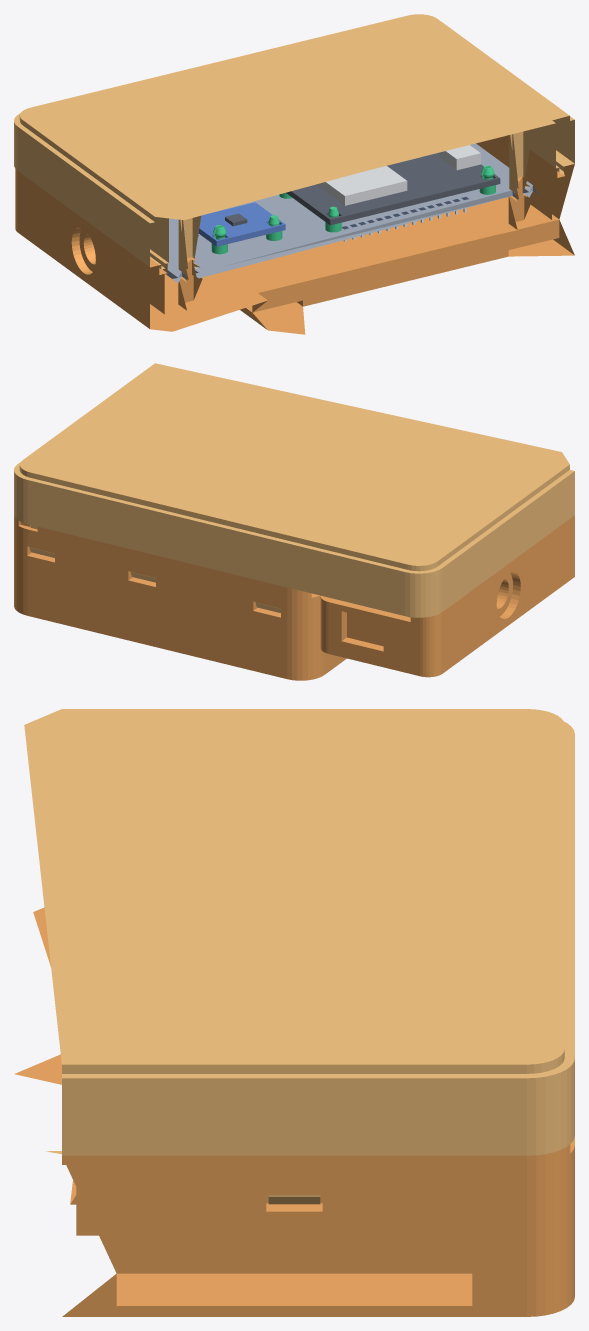
The model's file is SIMULACION_2_CORTE_INTERIOR_CON_TAPA_CERRADA.glb.
3 renders of one model, top to bottom at view 1: azimuth 30°, elevation 25°; view 2: azimuth 150°, elevation 25°; view 3: azimuth 270°, elevation 25°, orthographic. The views are drawn at different scales.
Parts seen in each view (by area): view 1: Tapa_Solar_Cerrada_Cortada, Capsula_Base_Cortada, Baquelita_PETG_Gris, Modulo_ESP32_Negro, Blindajes_RF_Plata, Modulos_PCB_Azul, Soportes_Ganchos_Y_Palitos_Verde; view 2: Tapa_Solar_Cerrada_Cortada, Capsula_Base_Cortada; view 3: Tapa_Solar_Cerrada_Cortada, Capsula_Base_Cortada.
Part boxes in pixels (<box>): Tapa_Solar_Cerrada_Cortada: <box>14,14,574,275</box>; Capsula_Base_Cortada: <box>15,135,574,334</box>; Baquelita_PETG_Gris: <box>165,143,538,282</box>; Modulo_ESP32_Negro: <box>225,152,500,226</box>; Blindajes_RF_Plata: <box>316,145,480,205</box>; Modulos_PCB_Azul: <box>198,202,285,246</box>; Soportes_Ganchos_Y_Palitos_Verde: <box>211,165,496,254</box>; Tapa_Solar_Cerrada_Cortada: <box>14,363,574,617</box>; Capsula_Base_Cortada: <box>14,515,574,680</box>; Tapa_Solar_Cerrada_Cortada: <box>24,709,574,1204</box>; Capsula_Base_Cortada: <box>14,907,574,1316</box>.
Size of the model in its own units: 126 by 40 by 82.
